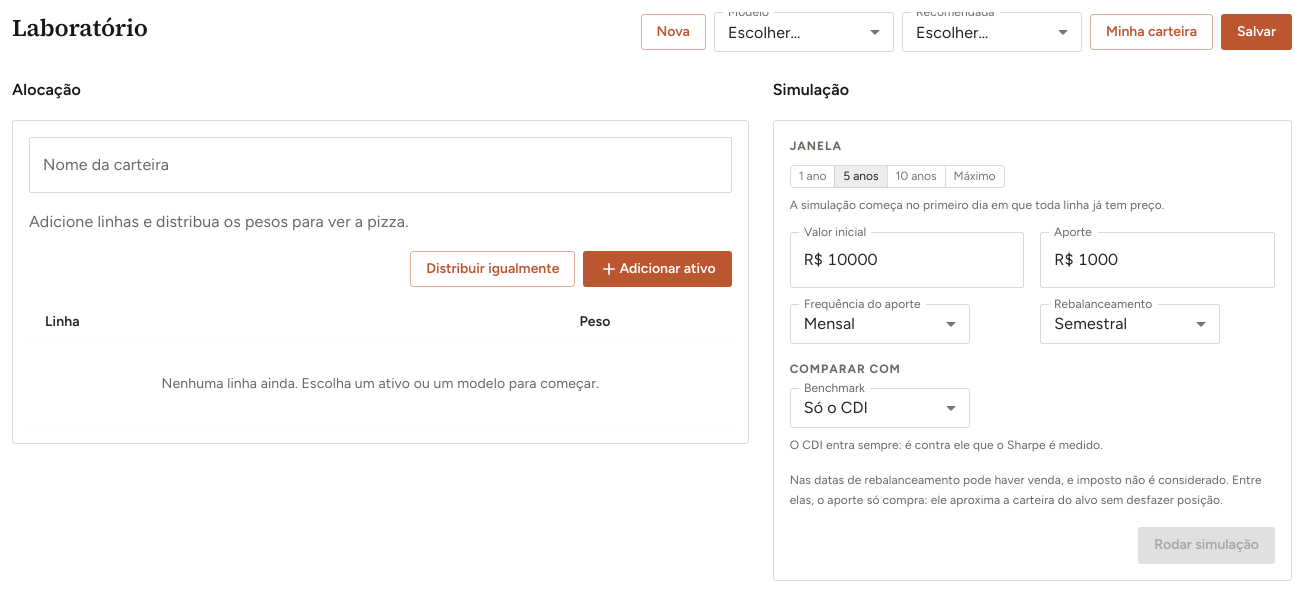
Scenario: MarketLaboratoryPage › seeds the draft from a preset and shows the weights adding to 100
Check: the heading "Laboratório" is shown, box [12,12,148,44]
Press the mouse on the dropdown named "Modelo" at coordinates (764, 32), box [728,22,801,42]
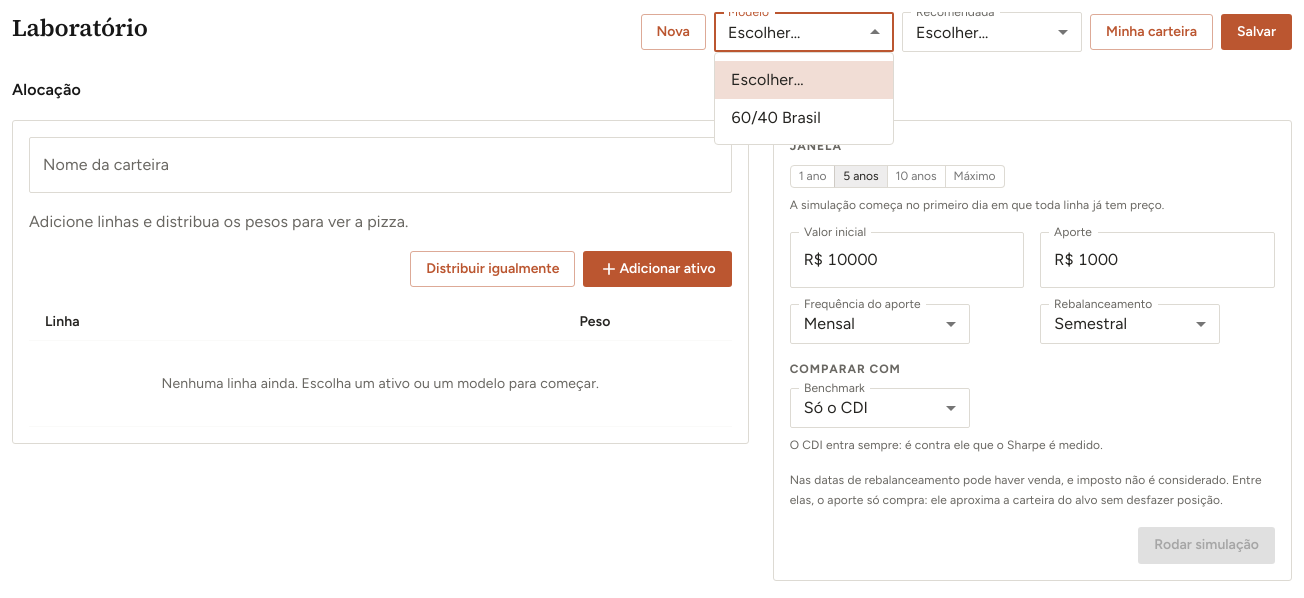
Click the option "60/40 Brasil".
click(776, 117)  # box [731,108,821,127]
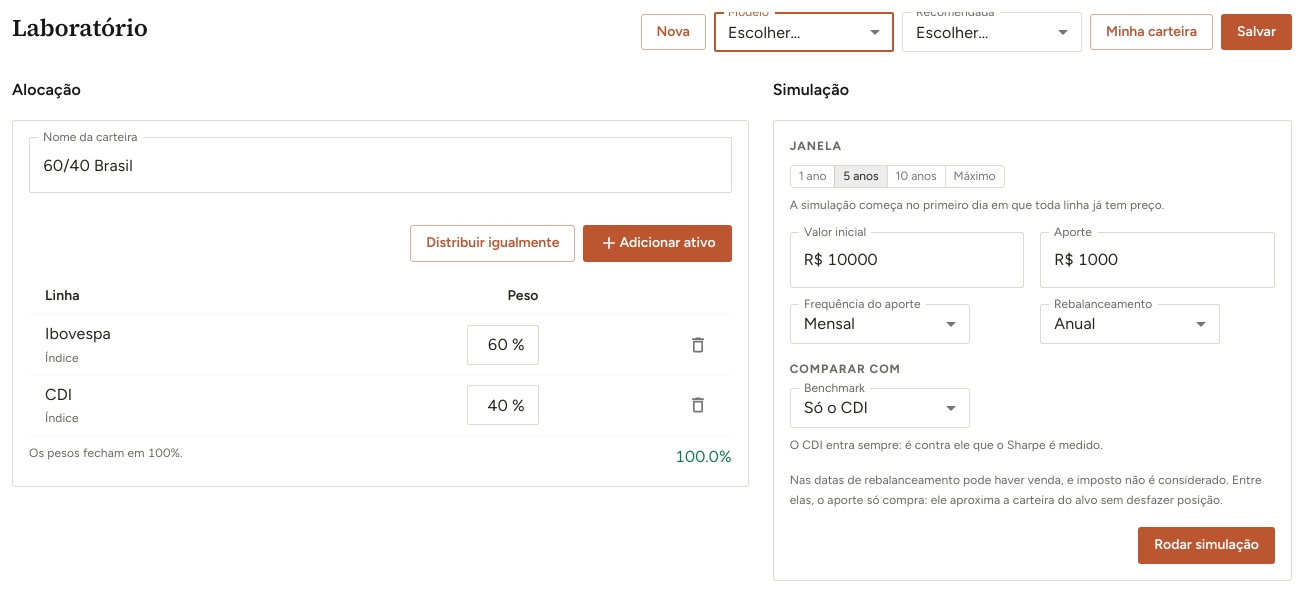
Check: the text "Ibovespa" is shown, box [45,324,111,343]
Check: the text "100.0%" is shown, box [675,444,732,470]
Check: the text "Os pesos fecham em 100%." is shown, box [29,446,183,460]
